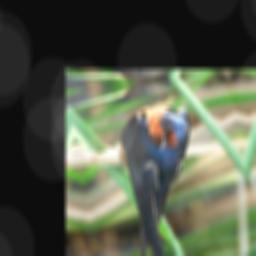Swallow: (109, 98, 219, 256)
